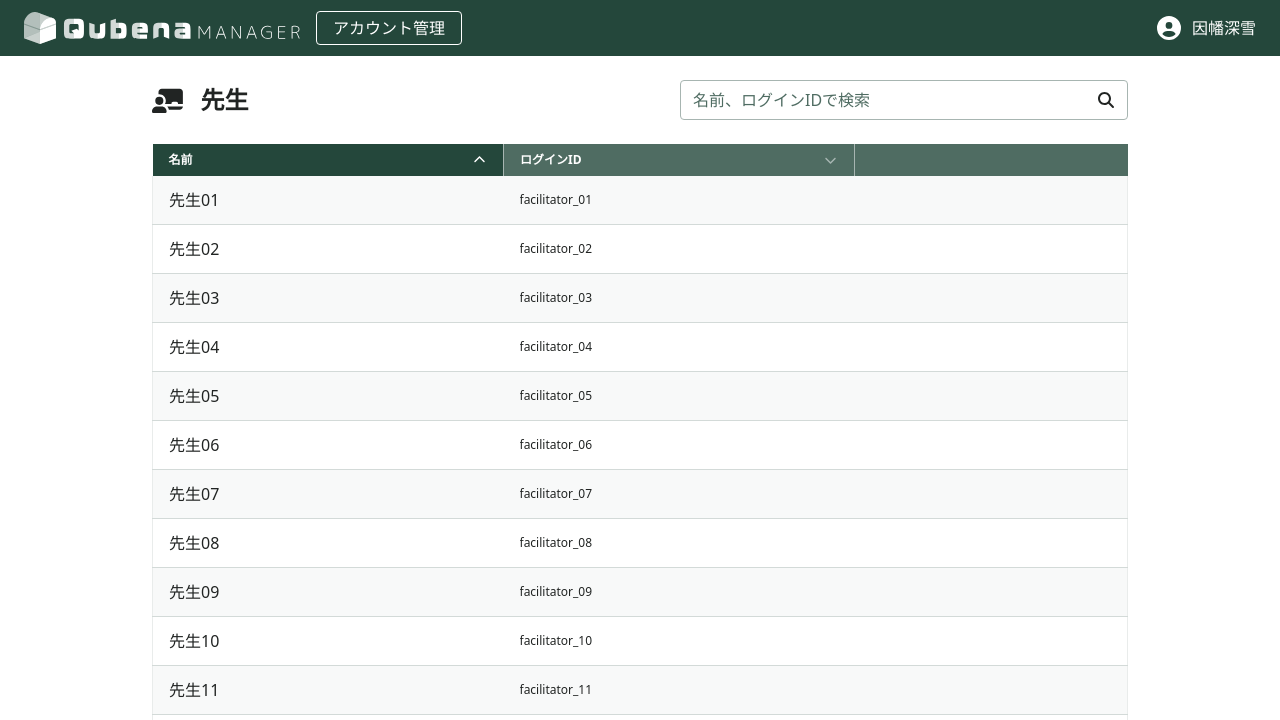
Scenario: FacilitatorListPage › 該当データが無いときは空メッセージを表示する
Expected: the text "先生01" is shown, 169,189 -> 219,211
Type "zzzznomatch" into the search field labelled "名前、ログインIDで検索". click: (904, 100)
box: 680,80 -> 1128,120
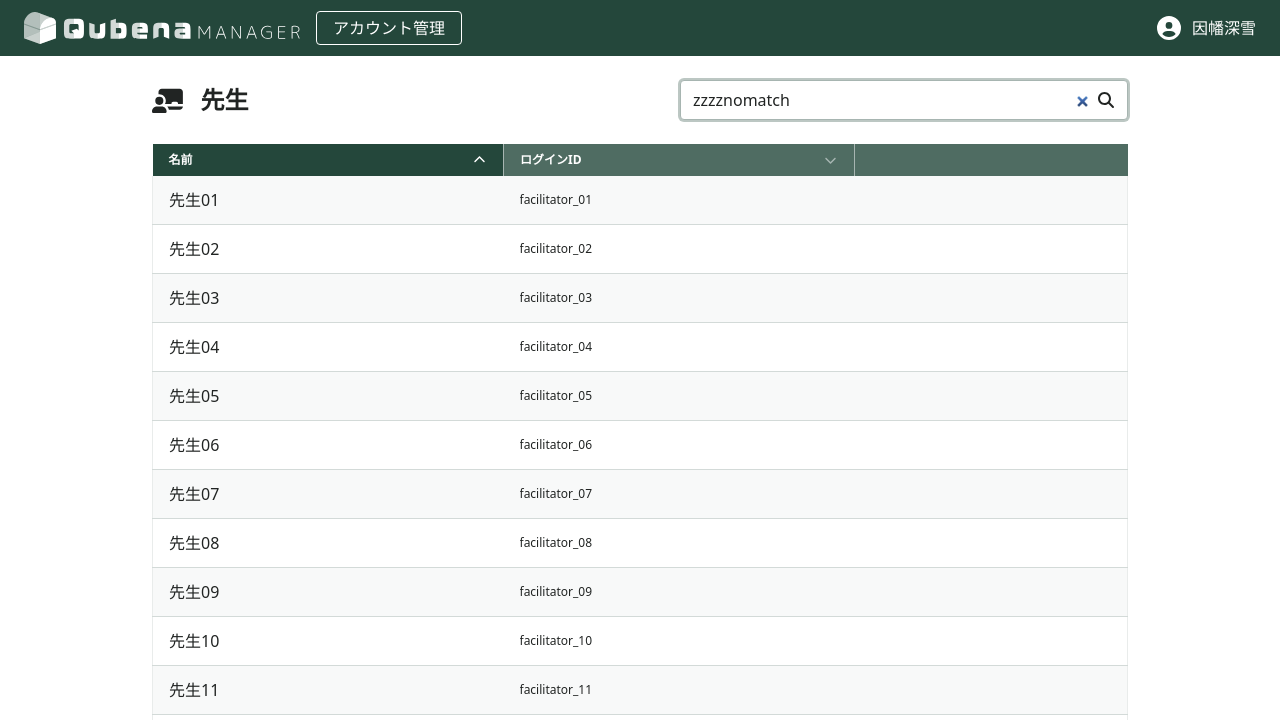
Press Enter
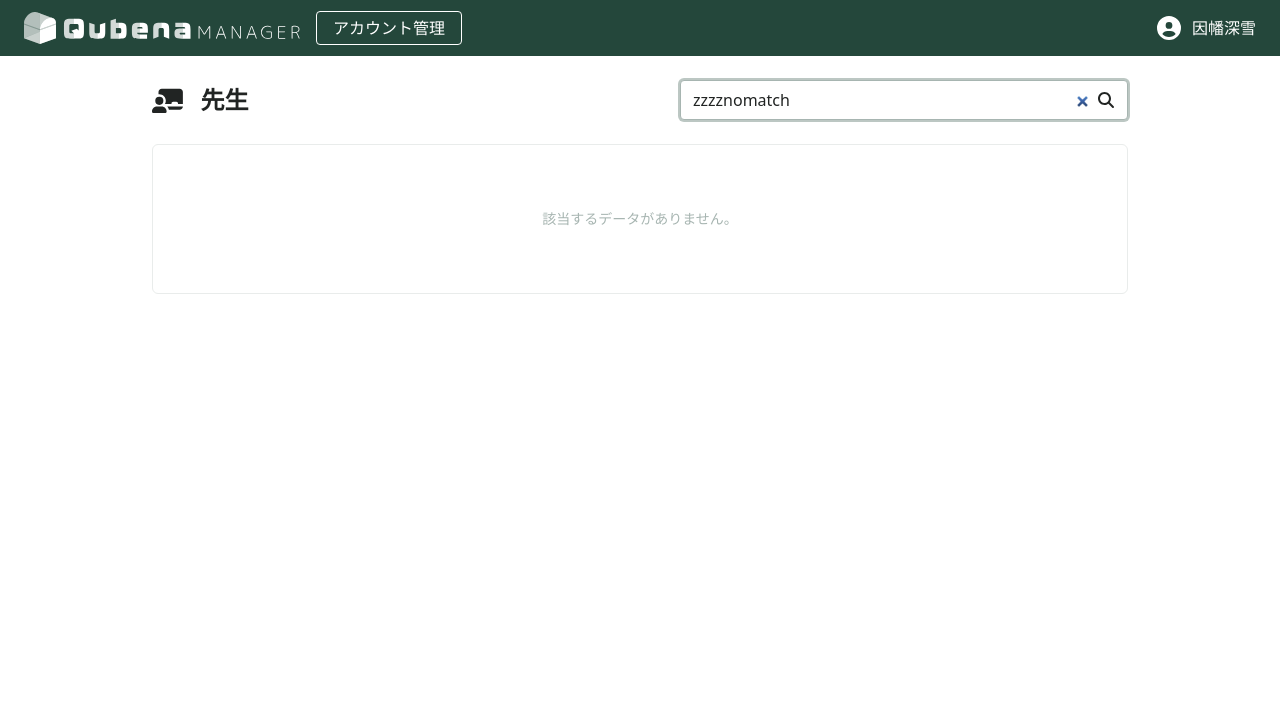
Result: the text "該当するデータがありません。" is shown at 152,144 -> 1128,294
